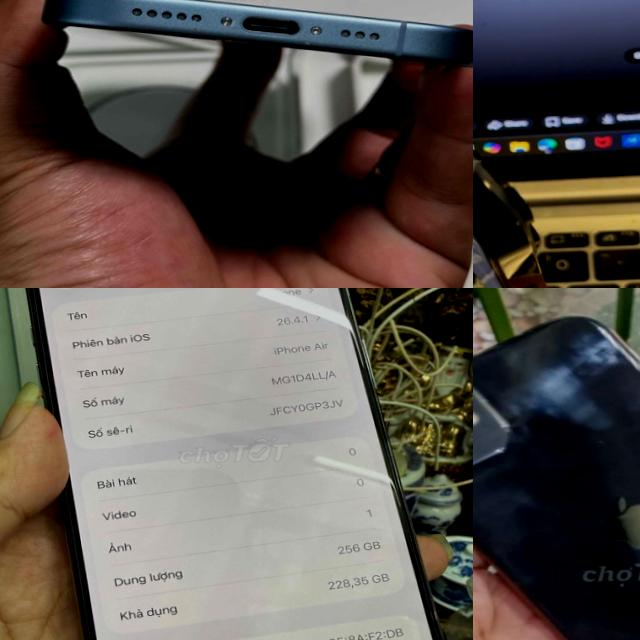gen_11: (473, 303, 640, 640)
gen_14: (473, 10, 583, 288)
gen_17: (18, 288, 465, 640), (28, 0, 473, 87)
